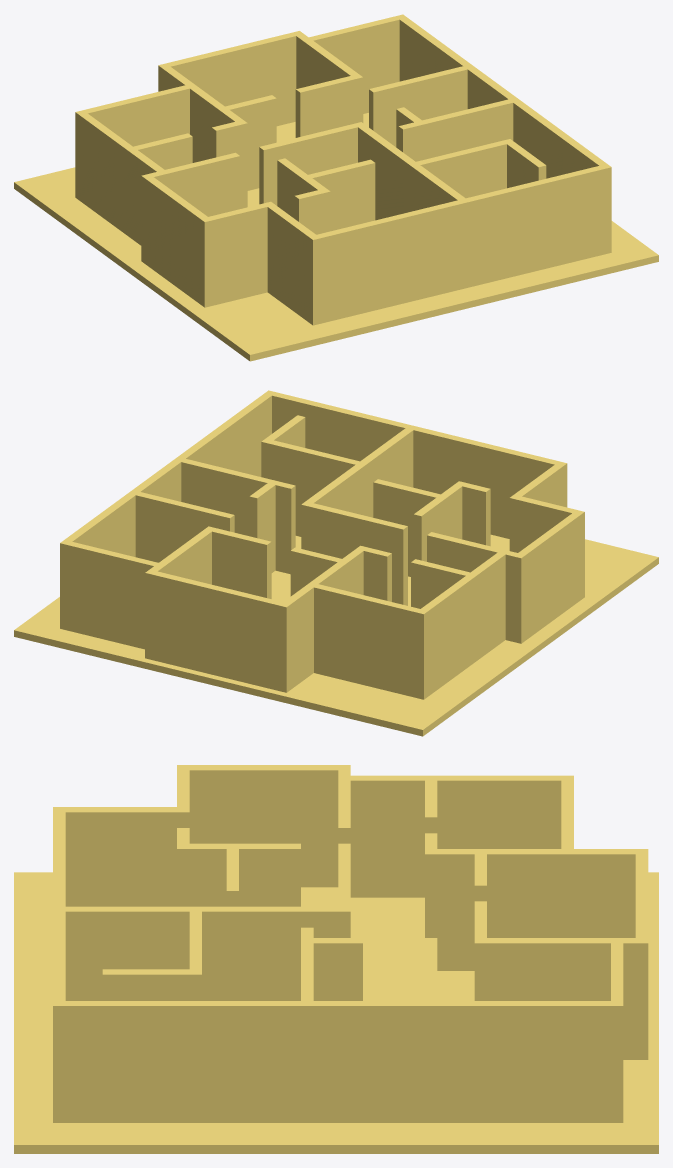
File: recorrido virtual.fbx
The picture shows the model from 3 angles, top to bottom: view 1: azimuth 30°, elevation 25°; view 2: azimuth 150°, elevation 25°; view 3: azimuth 270°, elevation 25°; orthographic projection. The views are drawn at different scales.
Visible parts, largest first — view 1: rect4520; view 2: rect4520; view 3: rect4520.
Boxes of the visible parts, x1,y1,x2,y2 form: rect4520: (14,14,658,361); rect4520: (14,390,658,736); rect4520: (14,765,658,1153).
Size of the model in its own units: 13005 by 2800 by 13005.
